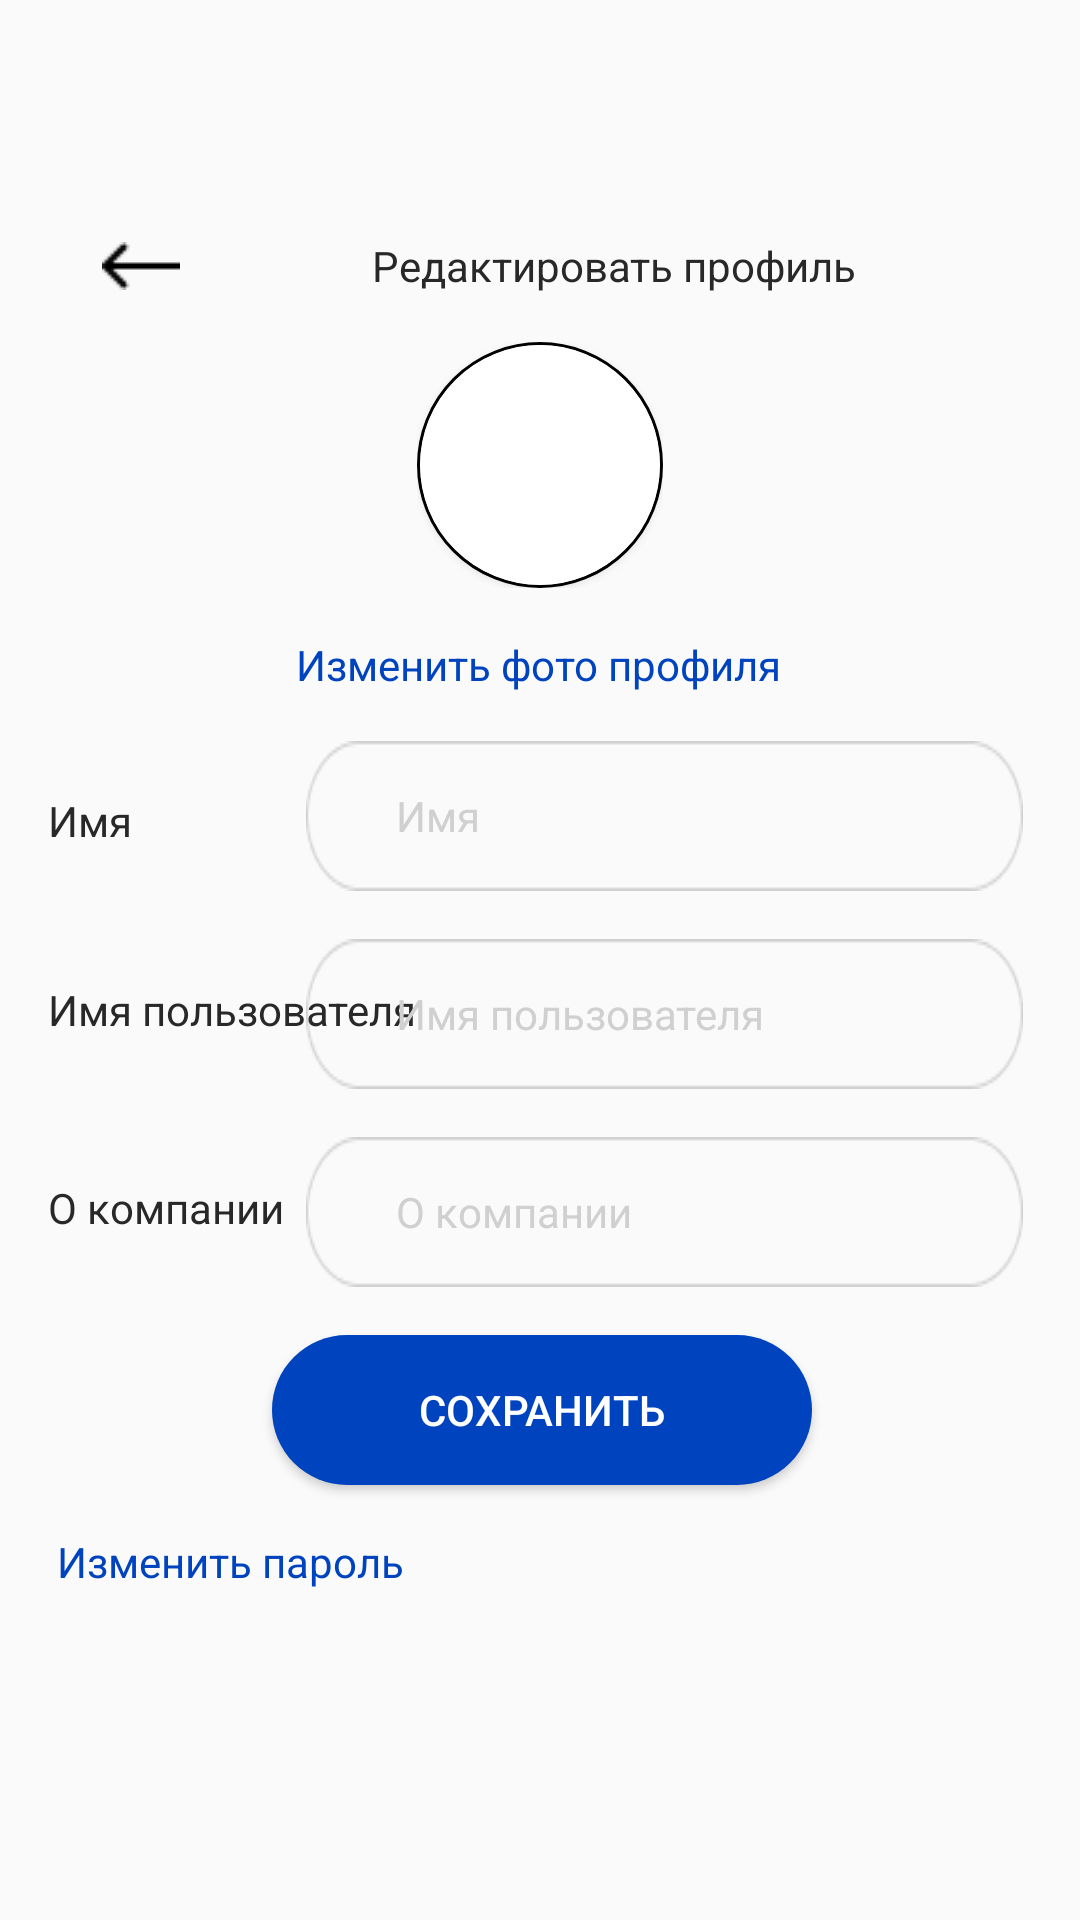

Point at icon controls on the screen. Image size 1080x1920, points as (x,y).
arrow left: (141,266)
